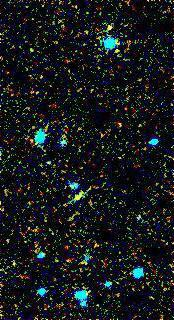star: (97, 12, 127, 42)
